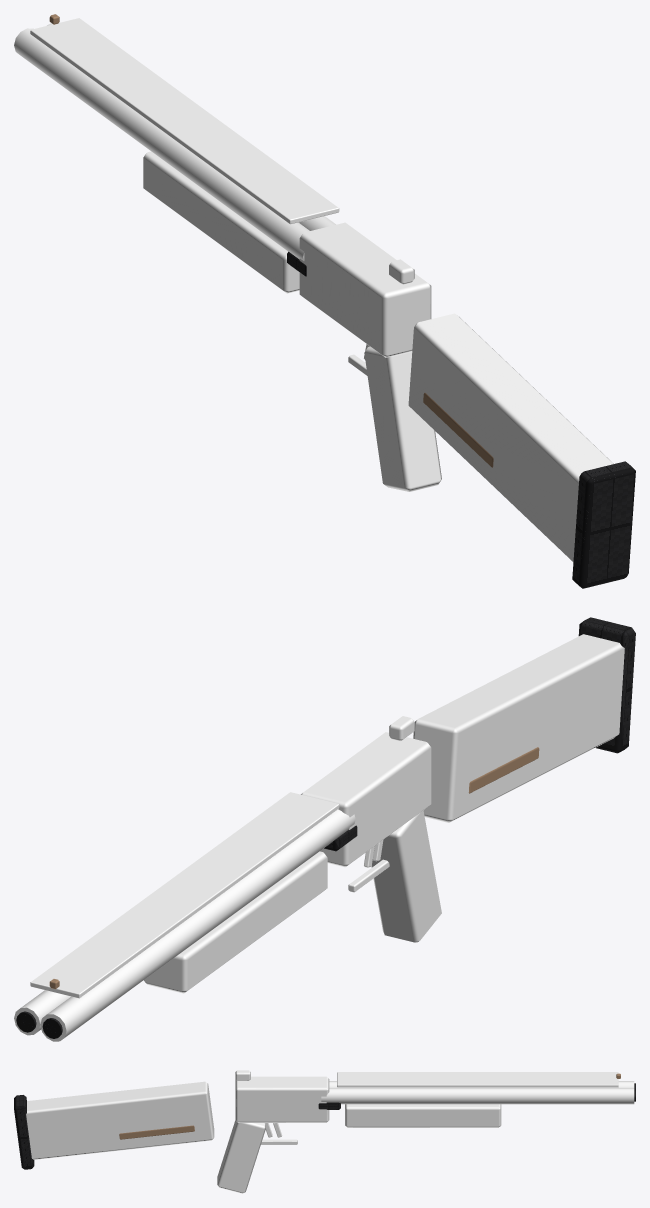
Rendered from twinfang.glb.
3 views of the same model, one above another, from view 1: azimuth 30°, elevation 25°; view 2: azimuth 150°, elevation 25°; view 3: azimuth 270°, elevation 25° (orthographic). The views are drawn at different scales.
Size of the model in its own units: 0.042 by 0.1673 by 0.7949.
Materials: 4 (1 with a texture image).
